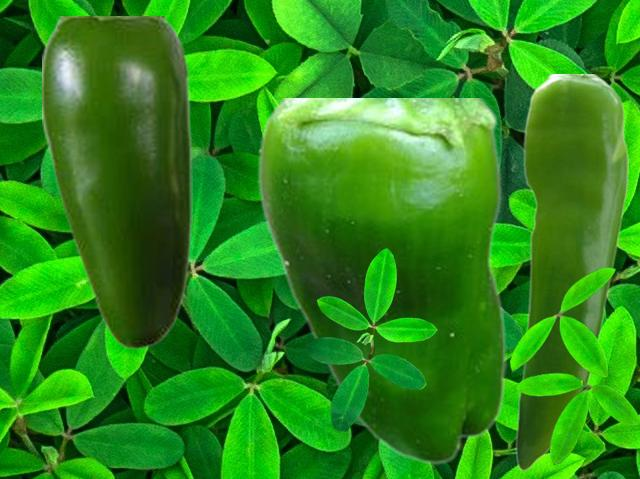green_chili: (256, 98, 505, 464), (42, 16, 191, 349), (515, 74, 627, 469)
